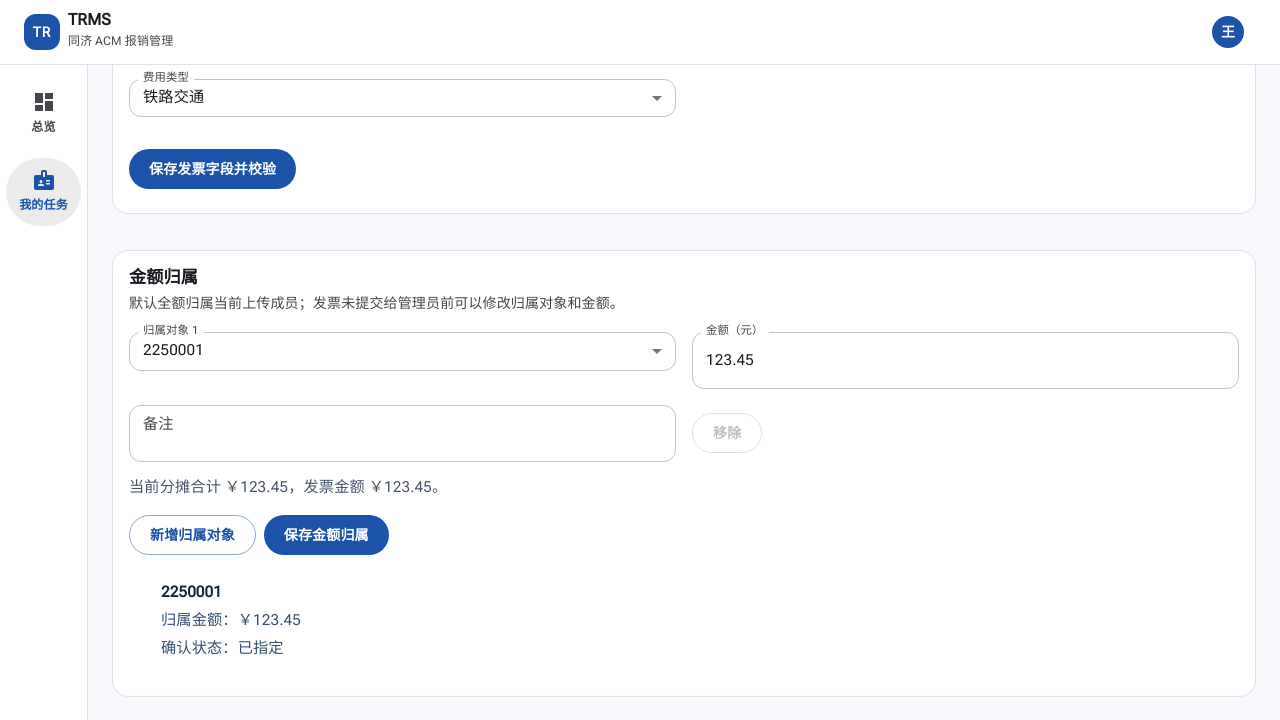
Test: MemberInvoiceDetailPage › does not save splits when the member cancels the partial reimbursement confirmation
(page scrolled)
Replace the text in the field labelled "金额（元）" with "100.00" at (966, 360), box [692, 332, 1239, 389]
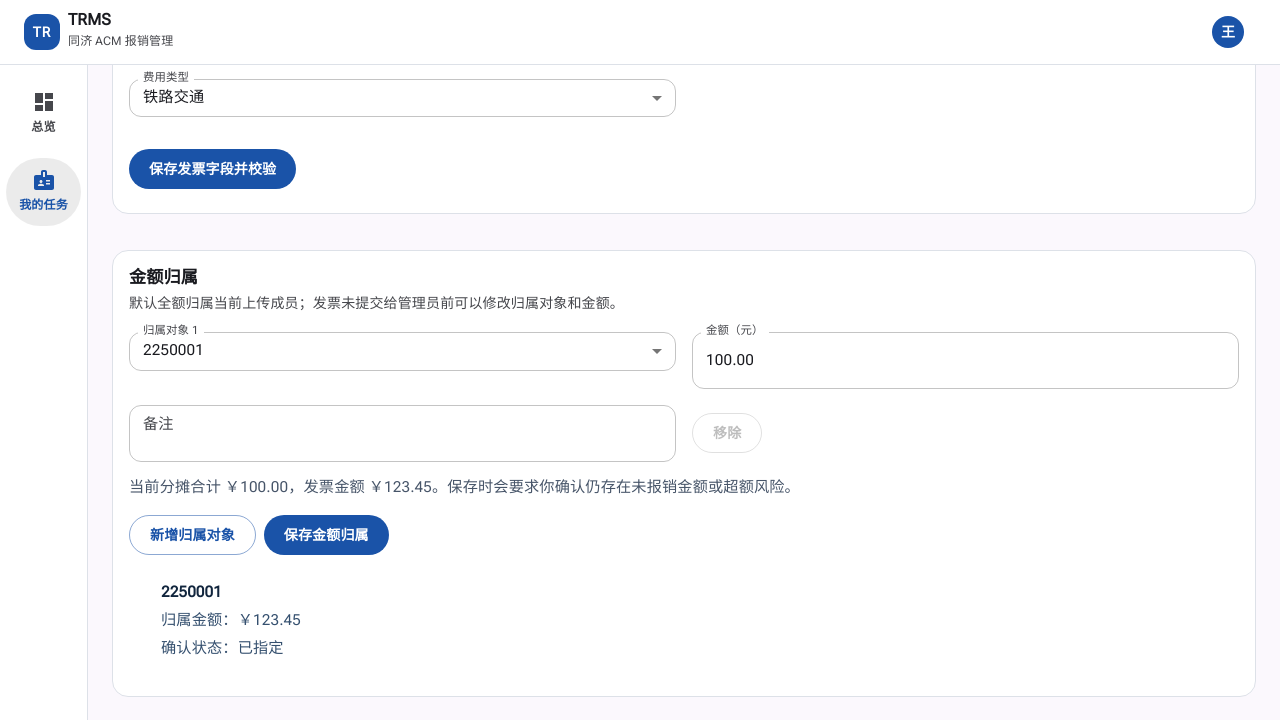
Click the button "保存金额归属".
click(326, 535)  # box [264, 515, 389, 555]
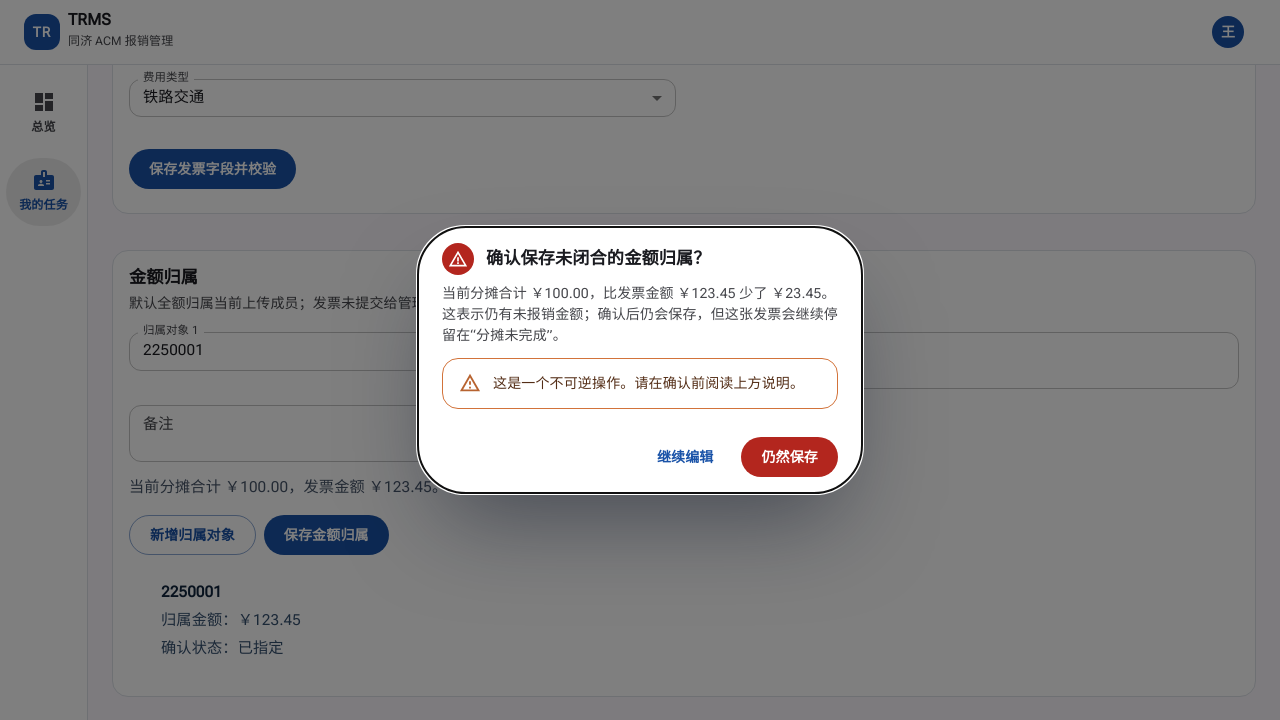
Click the button "继续编辑".
click(685, 457)  # box [637, 437, 734, 477]
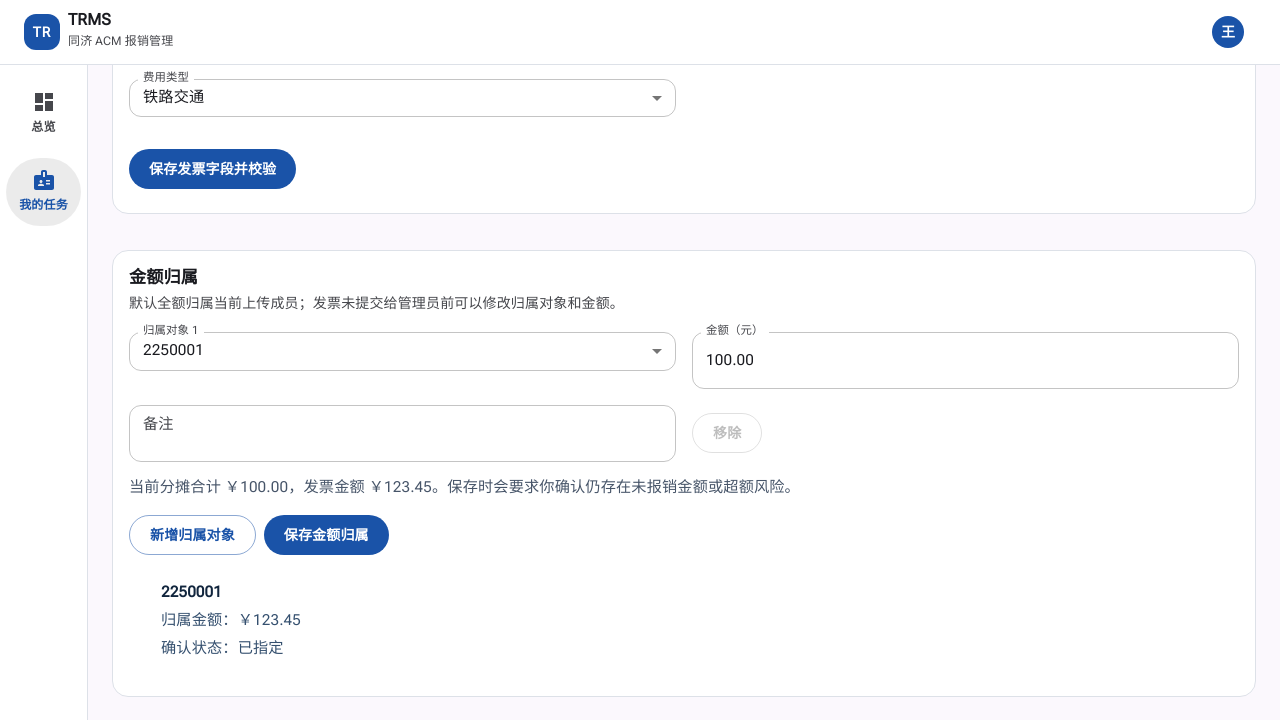
Expected: the dialog is gone
